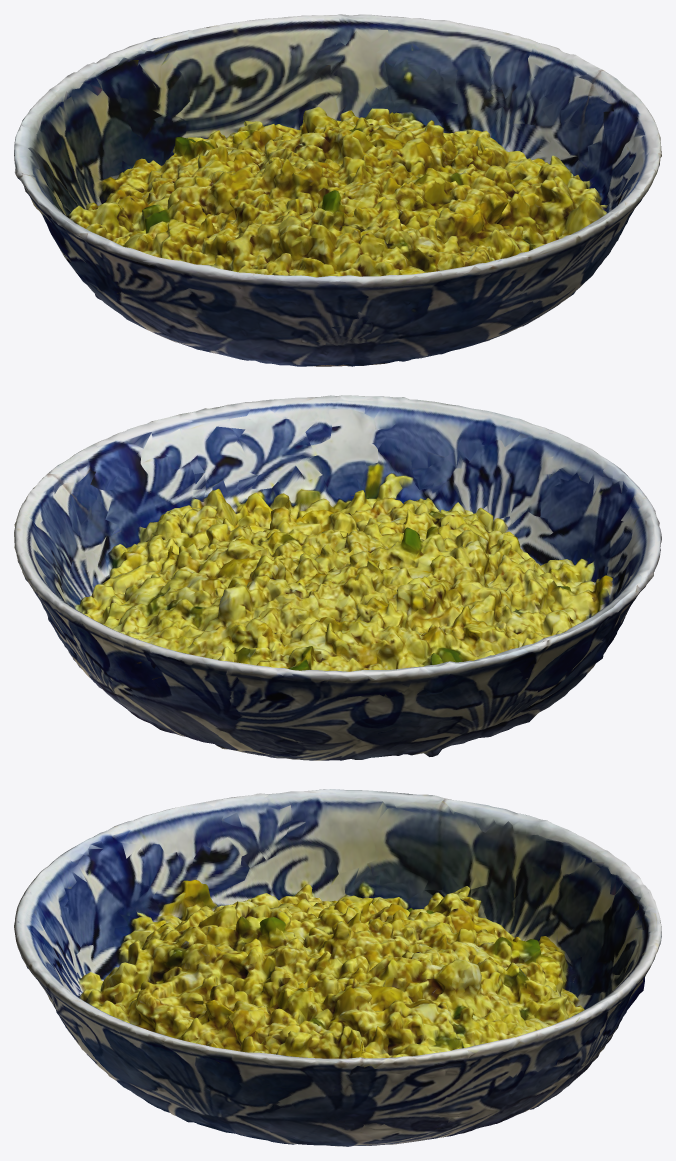
The model's file is tofurevuelto.glb.
The picture shows the model from 3 angles, top to bottom: view 1: azimuth 30°, elevation 25°; view 2: azimuth 150°, elevation 25°; view 3: azimuth 270°, elevation 25°; orthographic projection.
Parts seen in each view (by area): view 1: Node_0; view 2: Node_0; view 3: Node_0.
Part boxes in pixels (<box>): Node_0: <box>14,14,661,366</box>; Node_0: <box>14,395,661,760</box>; Node_0: <box>14,789,661,1146</box>.
Size of the model in its own units: 9.52 by 2.39 by 9.49.
1 material, 1 textured.
